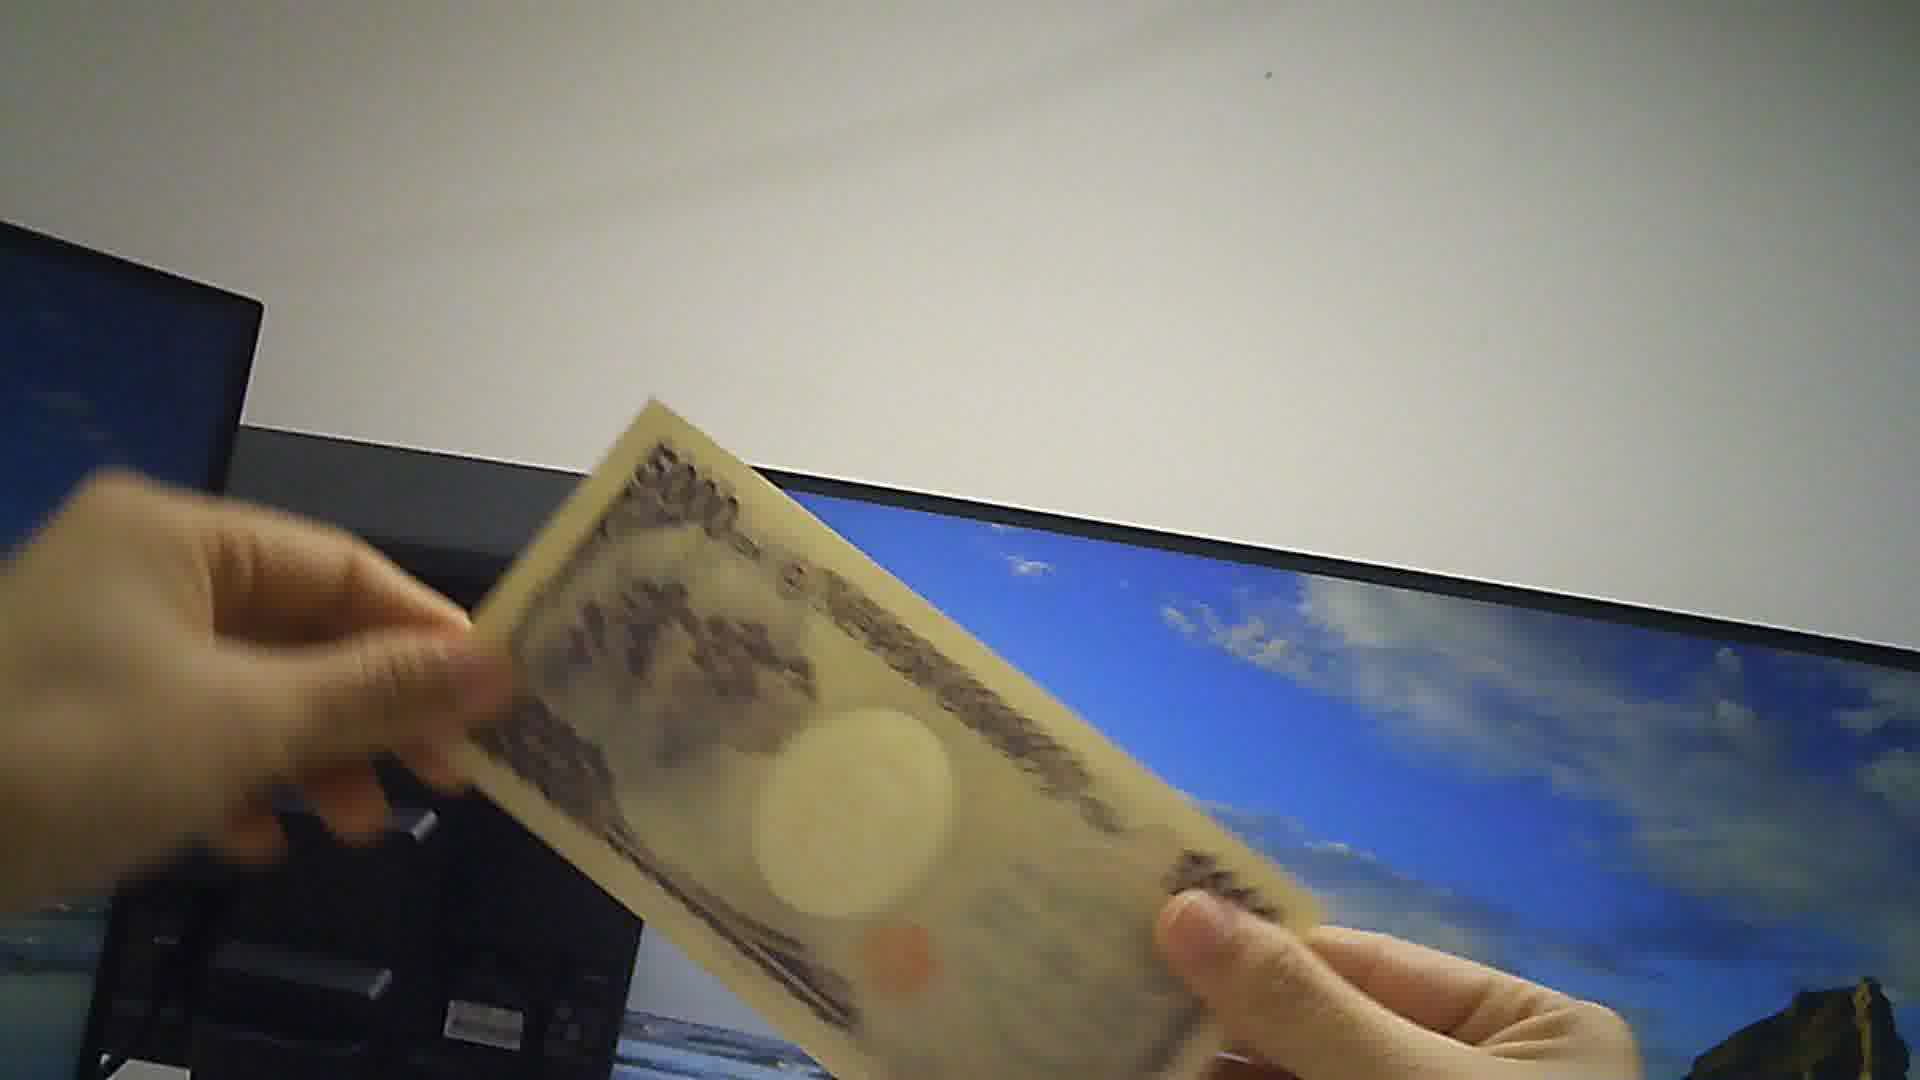5,000 Yen: (368, 381, 1369, 1068)
